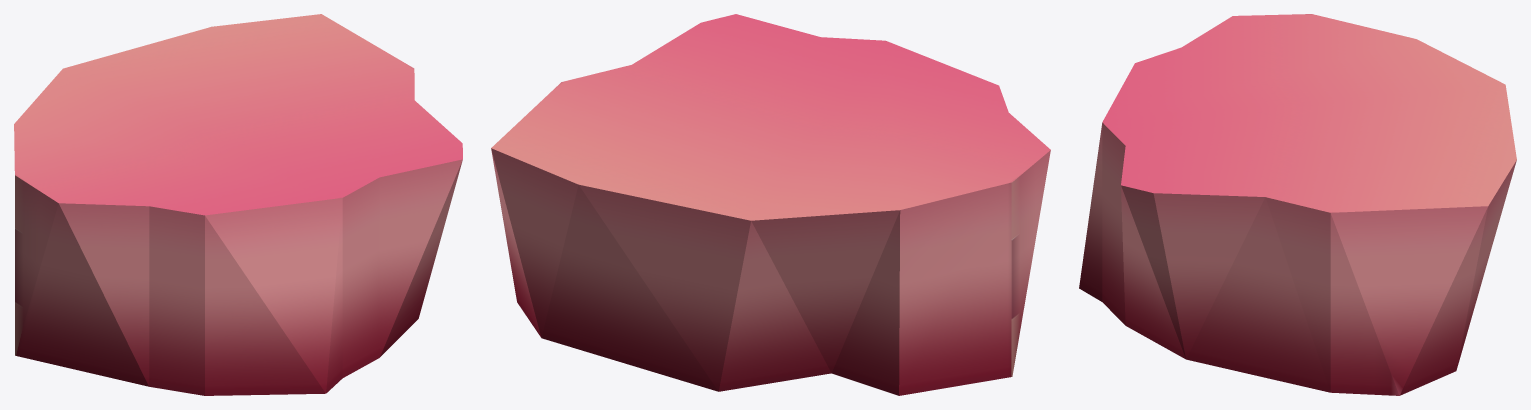
Rendered from Sunset_Ground_001.FBX.
3 views of the same model, side by side, from view 1: azimuth 30°, elevation 25°; view 2: azimuth 150°, elevation 25°; view 3: azimuth 270°, elevation 25° (orthographic). The views are drawn at different scales.
Visible parts, largest first — view 1: Sunset_Ground_001; view 2: Sunset_Ground_001; view 3: Sunset_Ground_001.
Part boxes in pixels (left/top/right/bottom): Sunset_Ground_001: left=14, top=14, right=462, bottom=395; Sunset_Ground_001: left=491, top=14, right=1050, bottom=395; Sunset_Ground_001: left=1079, top=14, right=1516, bottom=395.
Bounding box in the file's own units: 2699 × 1121 × 2472.
1 material, 1 textured.
